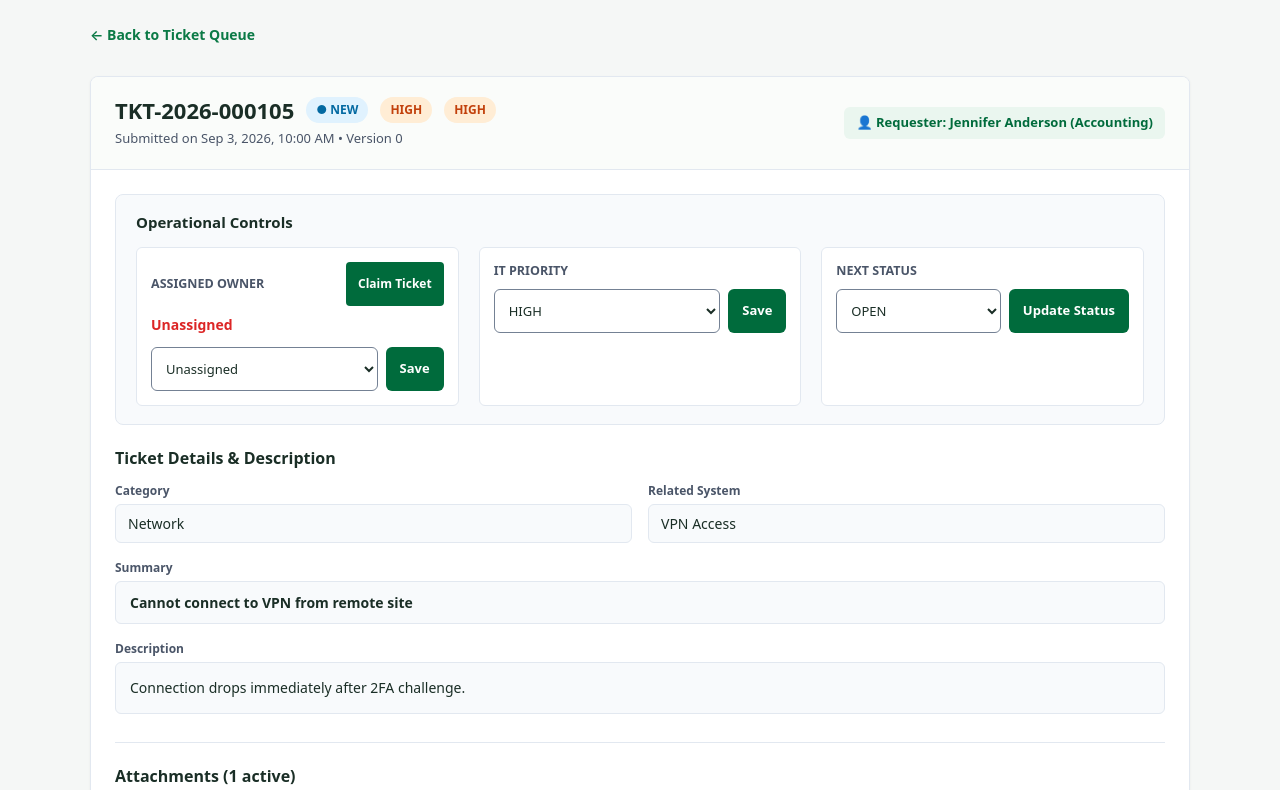
UI-05, UI-06, UI-09: Staff Ticket Detail Operations Component › refreshes eligible owners on 400 INVALID_OWNER error
The width and height of the screenshot is (1280, 790).
Select "Marcus Rivera (IT Staff)" in the dropdown with test id "select-owner" at (264, 369), box x1=151 y1=347 x2=378 y2=391
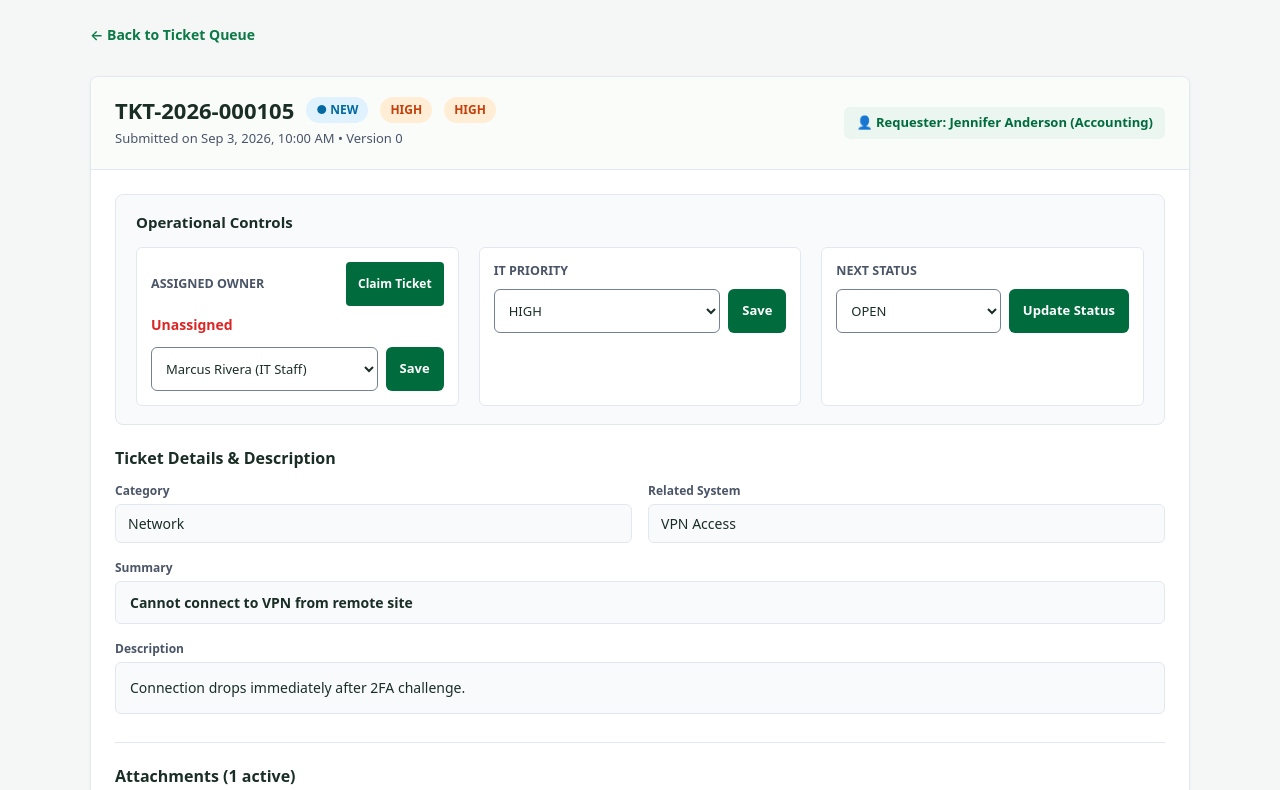
Click the button with test id "btn-save-owner" at (415, 369), box x1=386 y1=347 x2=444 y2=391
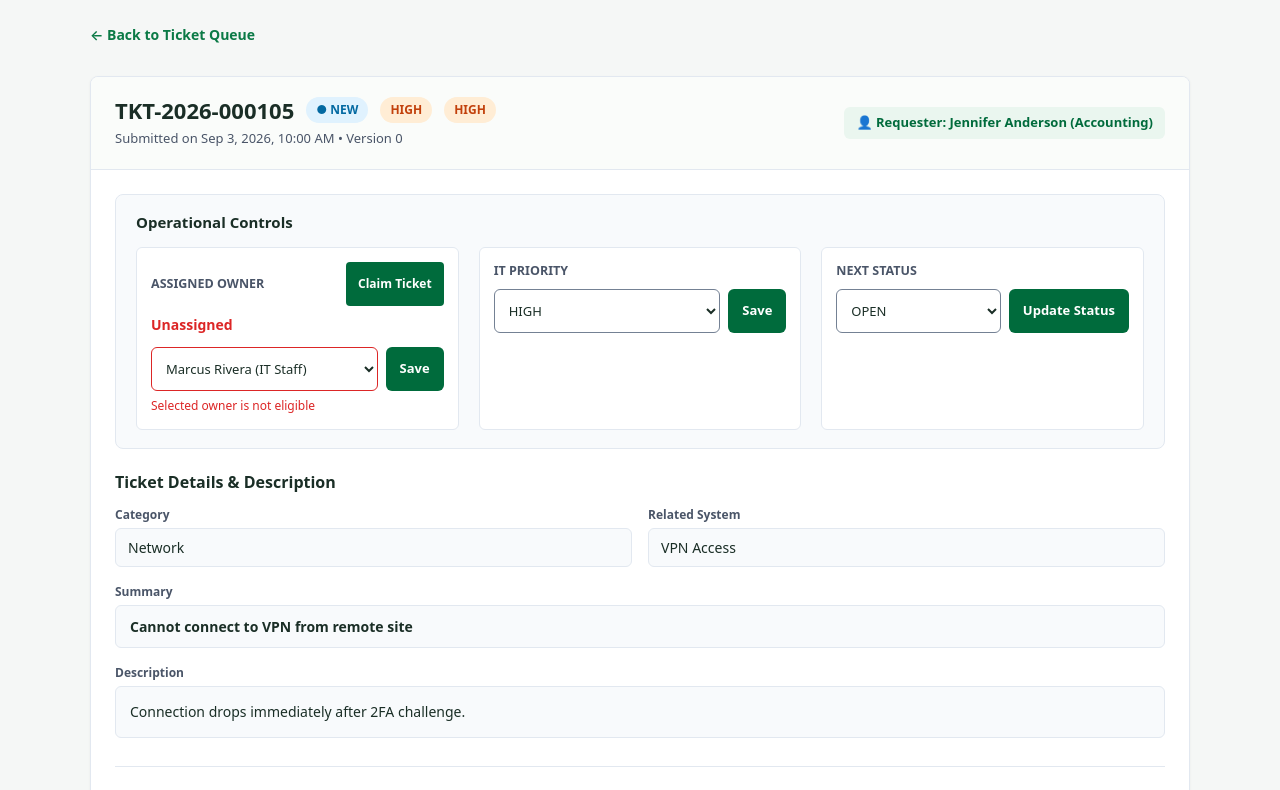
Expected: the text "Selected owner is not eligible" is shown, x1=151 y1=397 x2=315 y2=414
